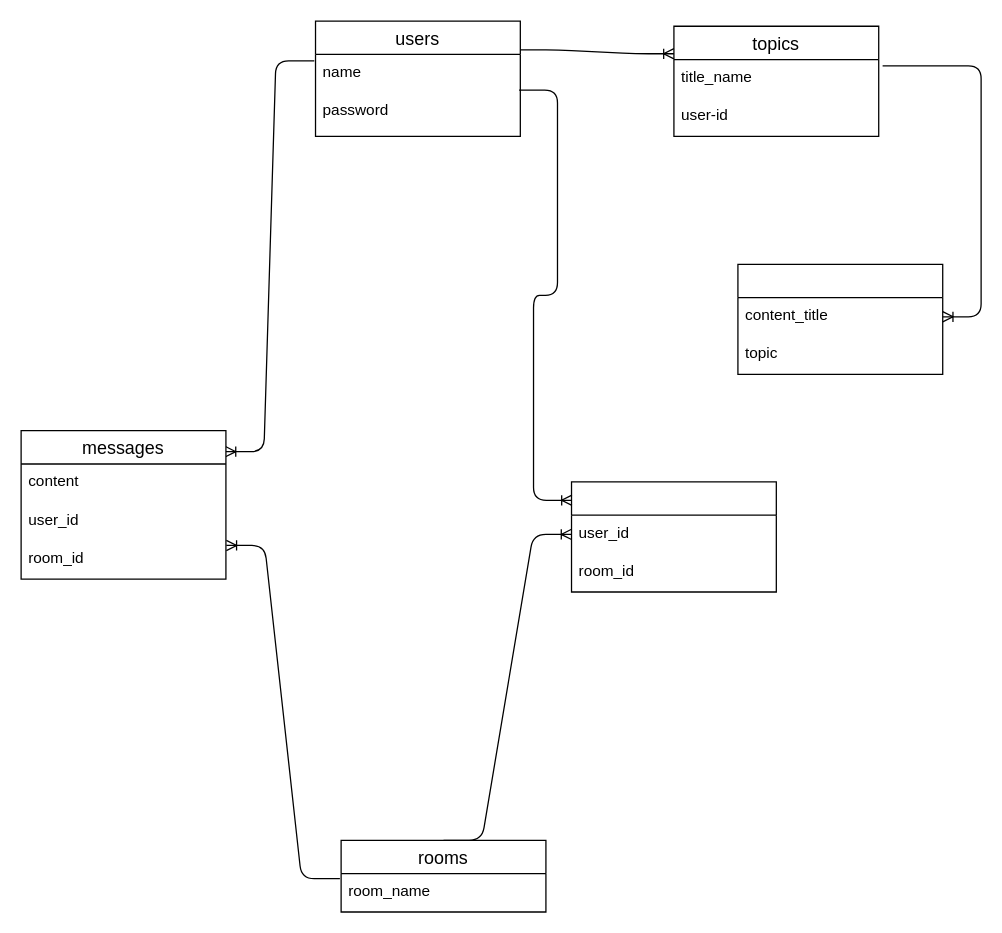
The diagram is 1002 pixels wide and 933 high, and some of its shapes have lost their labels. Each missing label, with the box of its shape:
contents: (737, 263, 943, 374)
room_users: (570, 481, 776, 592)
